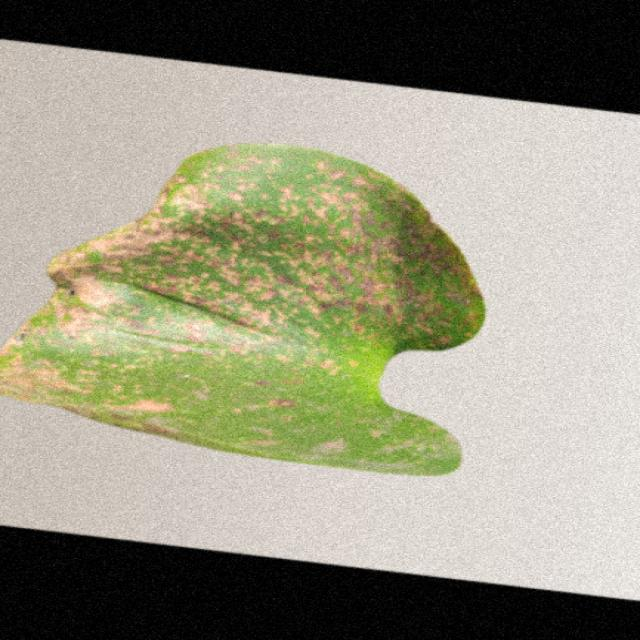daun berpenyakit bercak: (3, 144, 483, 474)
